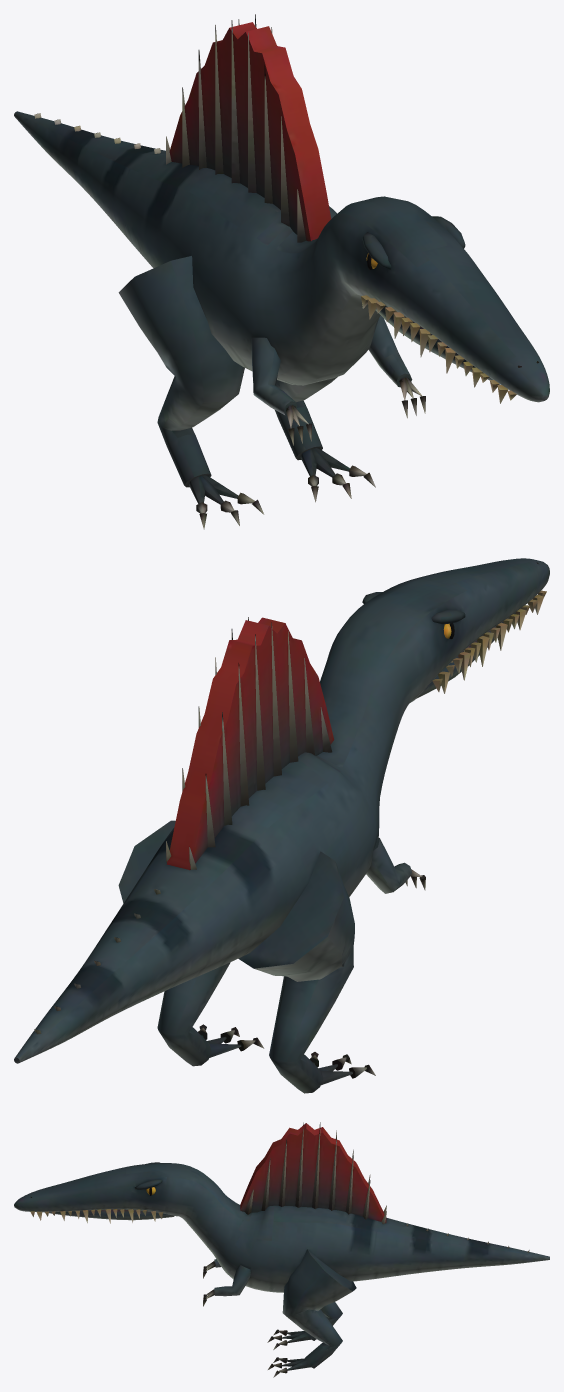
Rendered from spinosaurus.glb.
3 renders of one model, top to bottom at view 1: azimuth 30°, elevation 25°; view 2: azimuth 150°, elevation 25°; view 3: azimuth 270°, elevation 25°, orthographic. The views are drawn at different scales.
Parts seen in each view (by area): view 1: Spinosaurus; view 2: Spinosaurus; view 3: Spinosaurus.
Boxes of the visible parts, x1,y1,x2,y2 form: Spinosaurus: (14,14,549,529); Spinosaurus: (14,558,549,1093); Spinosaurus: (14,1122,549,1377).
Bounding box in the file's own units: 2.81 × 5.85 × 12.28.
Materials: 1 (1 with a texture image).
